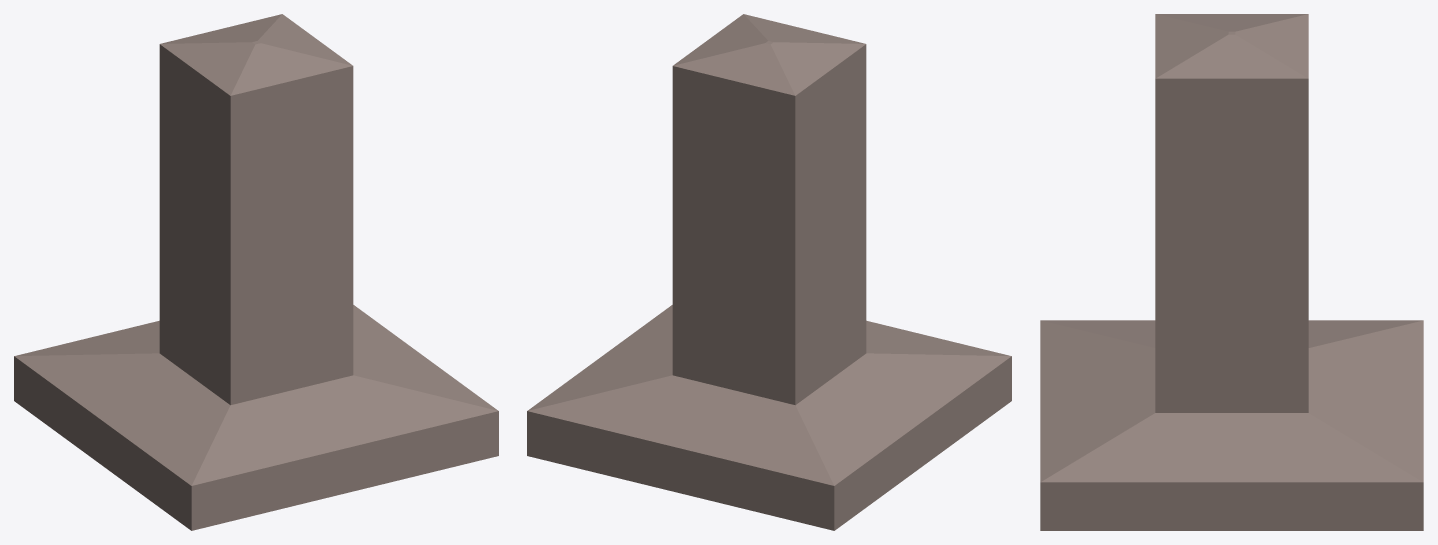
File: iron.glb
3 renders of one model, left to right at view 1: azimuth 30°, elevation 25°; view 2: azimuth 150°, elevation 25°; view 3: azimuth 270°, elevation 25°, orthographic. The views are drawn at different scales.
Parts seen in each view (by area): view 1: Cube; view 2: Cube; view 3: Cube.
Boxes of the visible parts, left/top/right/bottom form: Cube: left=14, top=14, right=498, bottom=530; Cube: left=527, top=14, right=1011, bottom=530; Cube: left=1040, top=14, right=1423, bottom=530.
Size of the model in its own units: 2 by 2.4 by 2.
